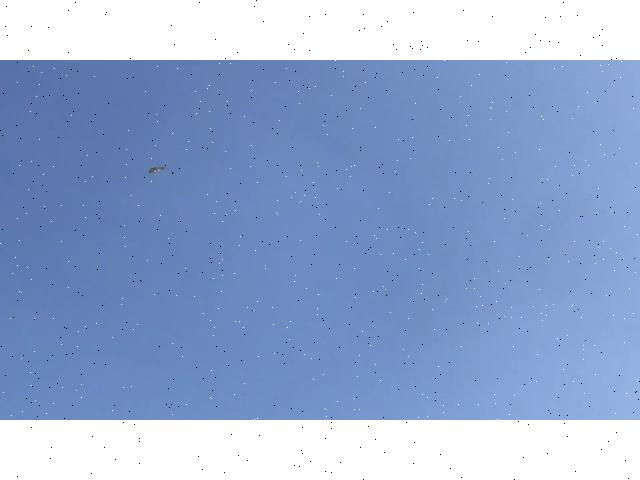Anti-Drone: (139, 159, 175, 187)
